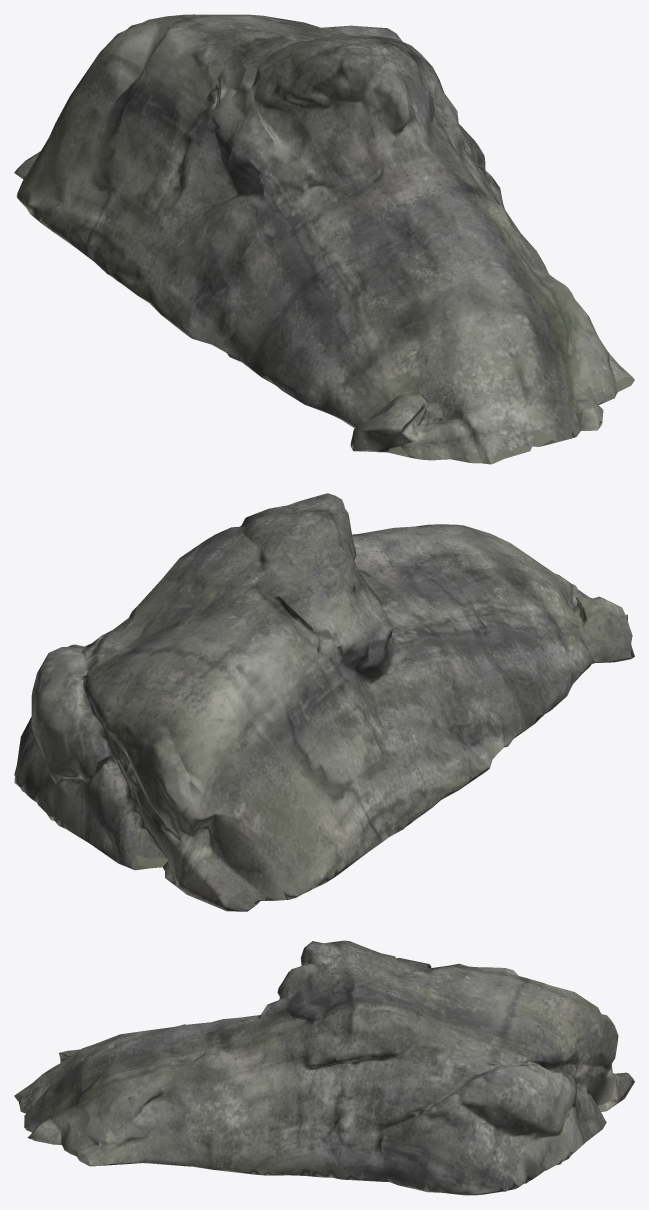
The model's file is SM_RockCliff_03.fbx.
3 renders of one model, top to bottom at view 1: azimuth 30°, elevation 25°; view 2: azimuth 150°, elevation 25°; view 3: azimuth 270°, elevation 25°, orthographic. The views are drawn at different scales.
Visible parts, largest first — view 1: SM_RockCliff_03_LOD0; view 2: SM_RockCliff_03_LOD0; view 3: SM_RockCliff_03_LOD0.
Boxes of the visible parts, left/top/right/bottom form: SM_RockCliff_03_LOD0: left=14, top=14, right=634, bottom=464; SM_RockCliff_03_LOD0: left=14, top=493, right=634, bottom=911; SM_RockCliff_03_LOD0: left=14, top=940, right=634, bottom=1195.
Bounding box in the file's own units: 170 × 327 × 104.
